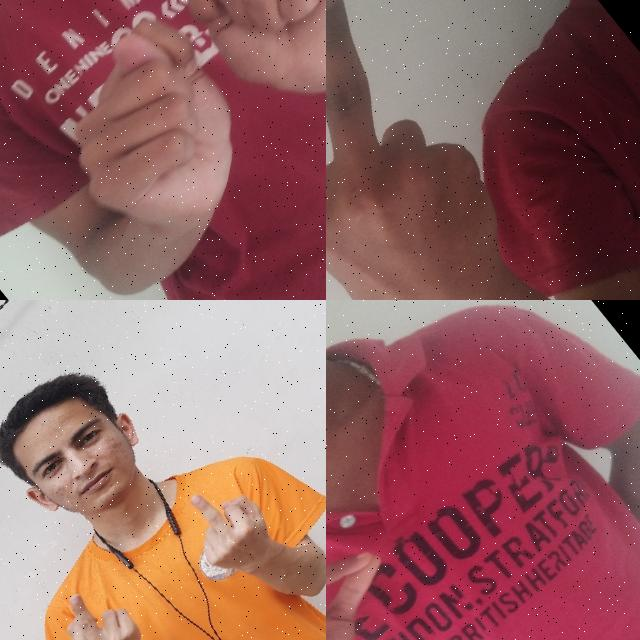Dulya: (12, 0, 301, 293), (160, 0, 326, 148)
Middle Finger: (162, 461, 294, 597), (38, 565, 166, 640)
Okay: (326, 465, 458, 640)
Reversed Victory: (326, 0, 589, 300)
